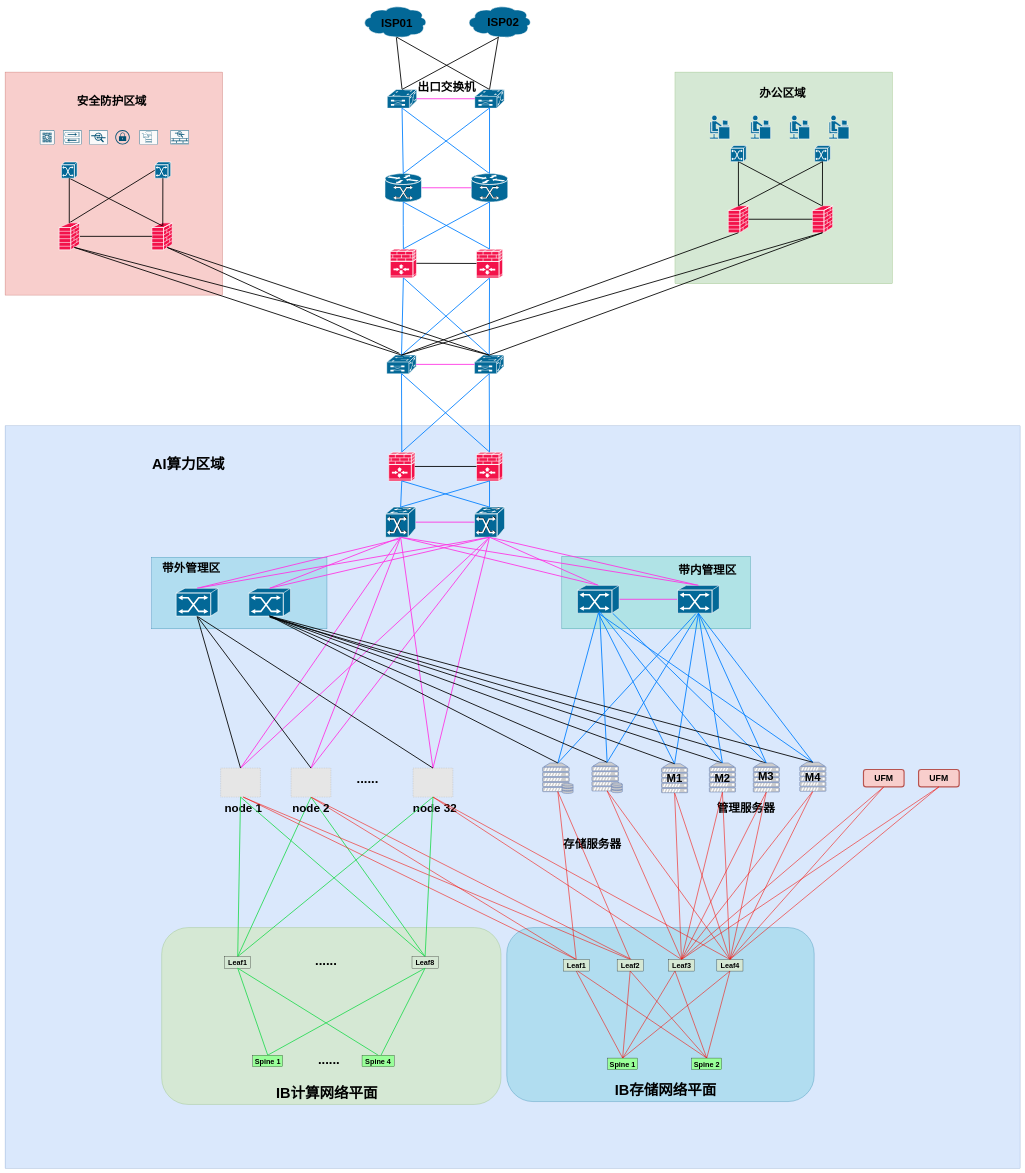
The diagram is 1025 pixels wide and 1173 high, and some of its shapes have lost their labels. Grey dashed boxes stand in for pictures. The shapes that lost their labels are listed below. From the top down, each one's centre as x and y in pixels, then its label:
the point at 557,778: S1
the point at 607,777: S2
